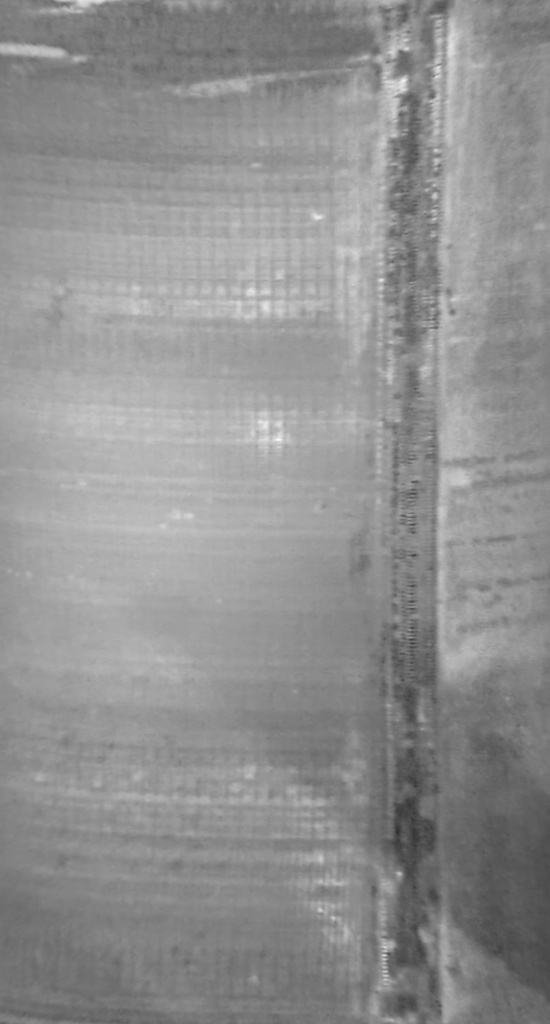splice: (366, 1, 462, 1022)
